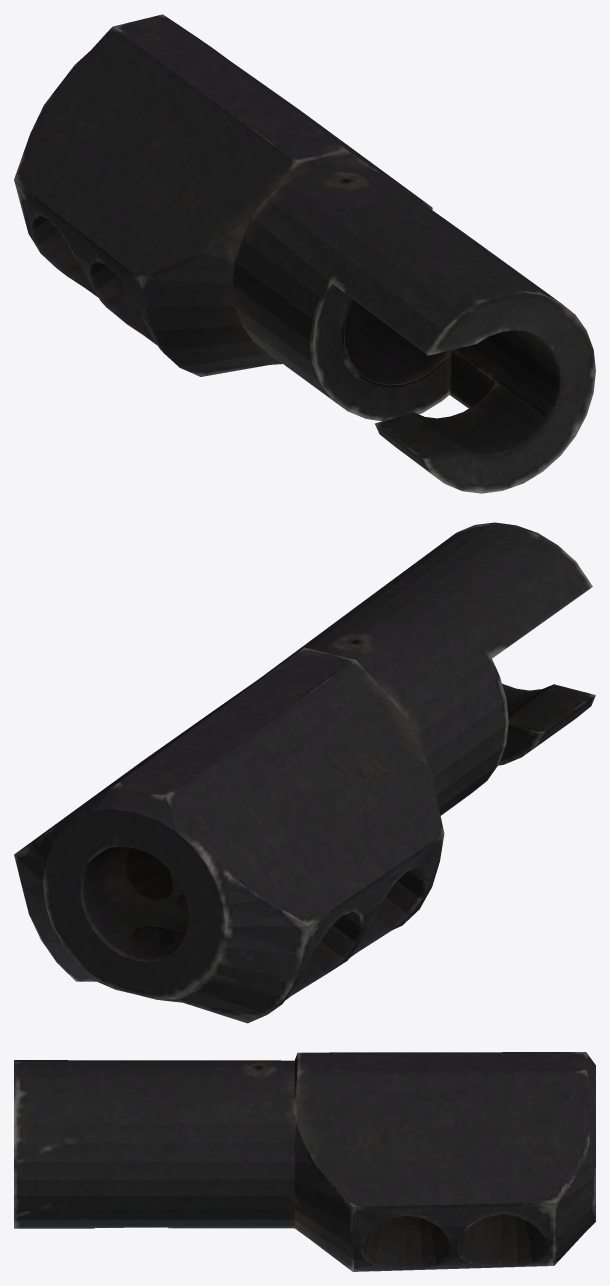
The picture shows the model from 3 angles, top to bottom: view 1: azimuth 30°, elevation 25°; view 2: azimuth 150°, elevation 25°; view 3: azimuth 270°, elevation 25°; orthographic projection. The views are drawn at different scales.
Visible parts, largest first — view 1: TW_5bc5a351d4351e003477a414_PZ_Import; view 2: TW_5bc5a351d4351e003477a414_PZ_Import; view 3: TW_5bc5a351d4351e003477a414_PZ_Import.
Part boxes in pixels (bbox=[...]): TW_5bc5a351d4351e003477a414_PZ_Import: bbox=[14, 14, 595, 493]; TW_5bc5a351d4351e003477a414_PZ_Import: bbox=[14, 522, 595, 1023]; TW_5bc5a351d4351e003477a414_PZ_Import: bbox=[14, 1052, 595, 1271].
Bounding box in the file's own units: 0.022 × 0.0483 × 0.0163.
Materials: 1 (1 with a texture image).
